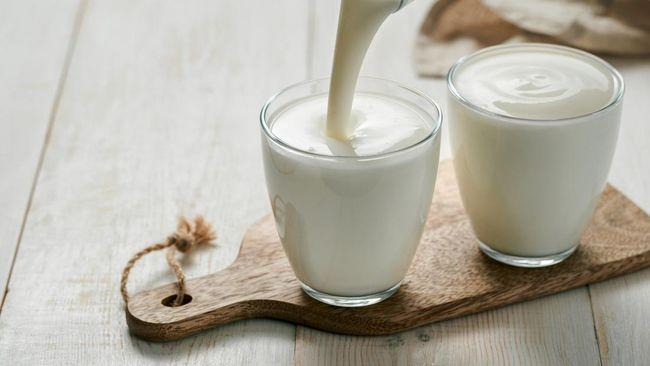produk_susu: (470, 65, 583, 239), (302, 97, 404, 282)
